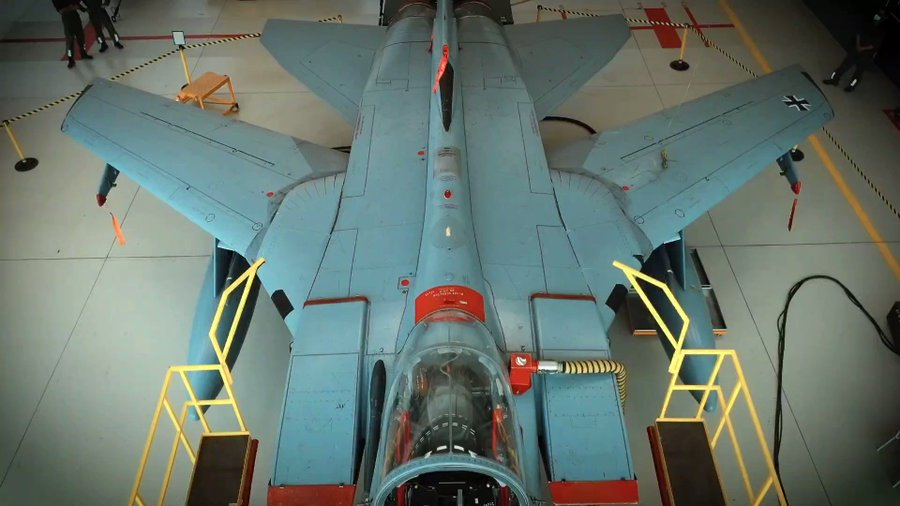Tornado: (60, 1, 835, 506)
